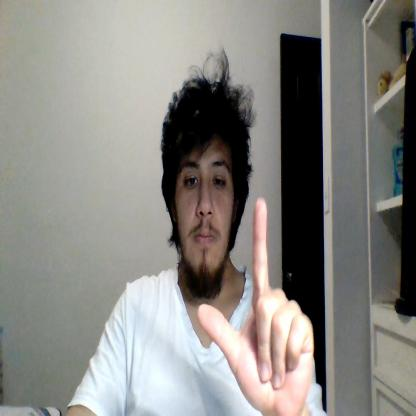L: (197, 195, 314, 415)
